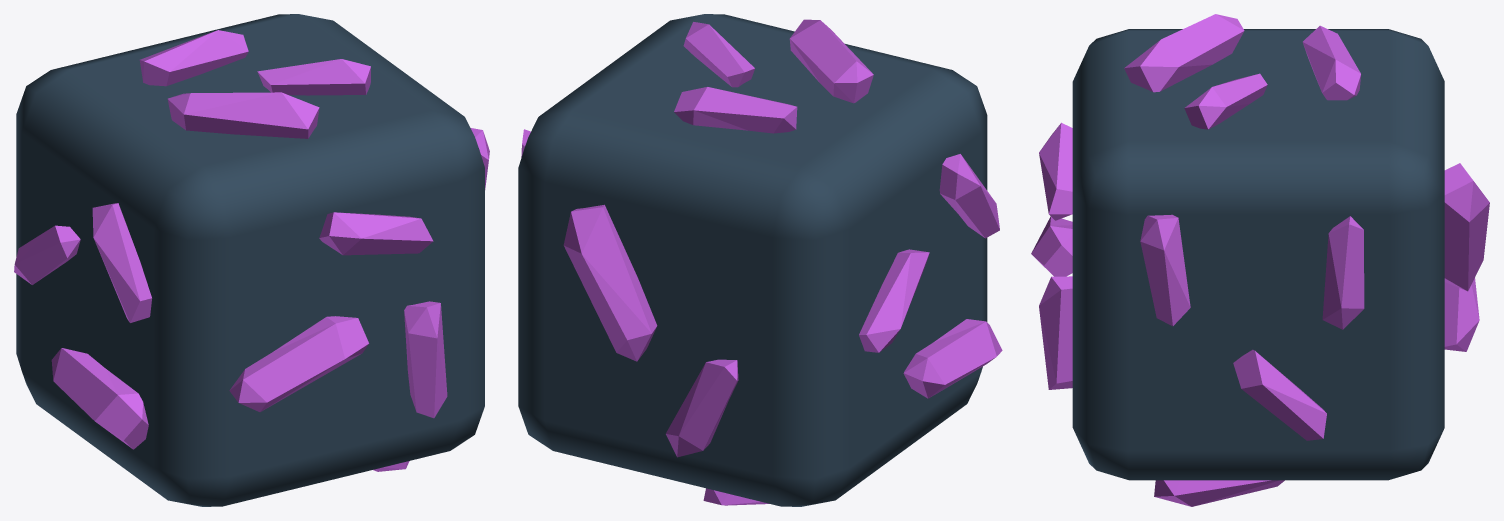
File: SM_Mythril.fbx
3 views of the same model, side by side, from view 1: azimuth 30°, elevation 25°; view 2: azimuth 150°, elevation 25°; view 3: azimuth 270°, elevation 25° (orthographic).
Visible parts, largest first — view 1: Cube.011; view 2: Cube.011; view 3: Cube.011.
Part boxes in pixels (left/top/right/bottom): Cube.011: left=14, top=14, right=489, bottom=506; Cube.011: left=518, top=14, right=1002, bottom=506; Cube.011: left=1031, top=14, right=1489, bottom=506.
Bounding box in the file's own units: 243 × 249 × 250.
